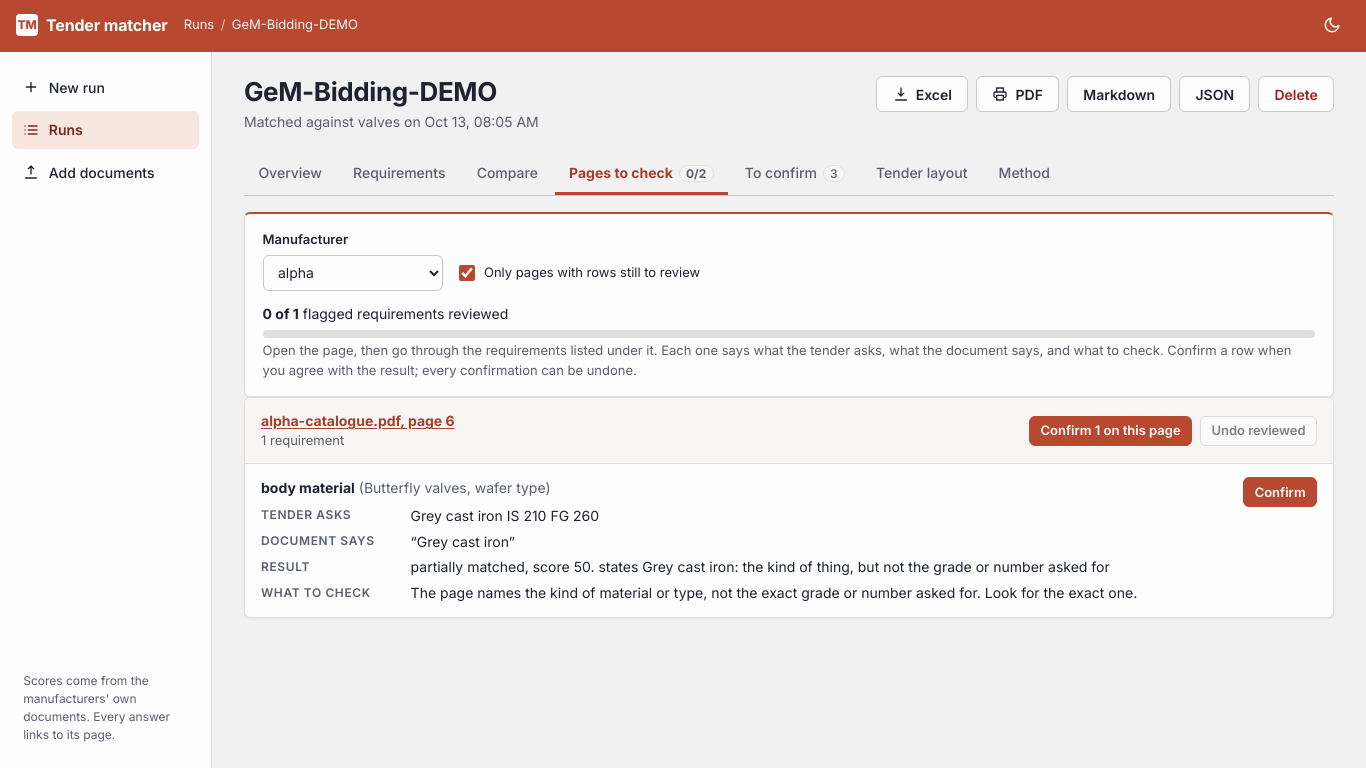
Test: the report › confirms every pending requirement on a page in one click
Click the button "Confirm 1 on this page" at [1111, 430], box top-left (1029, 416), bottom-right (1192, 446)
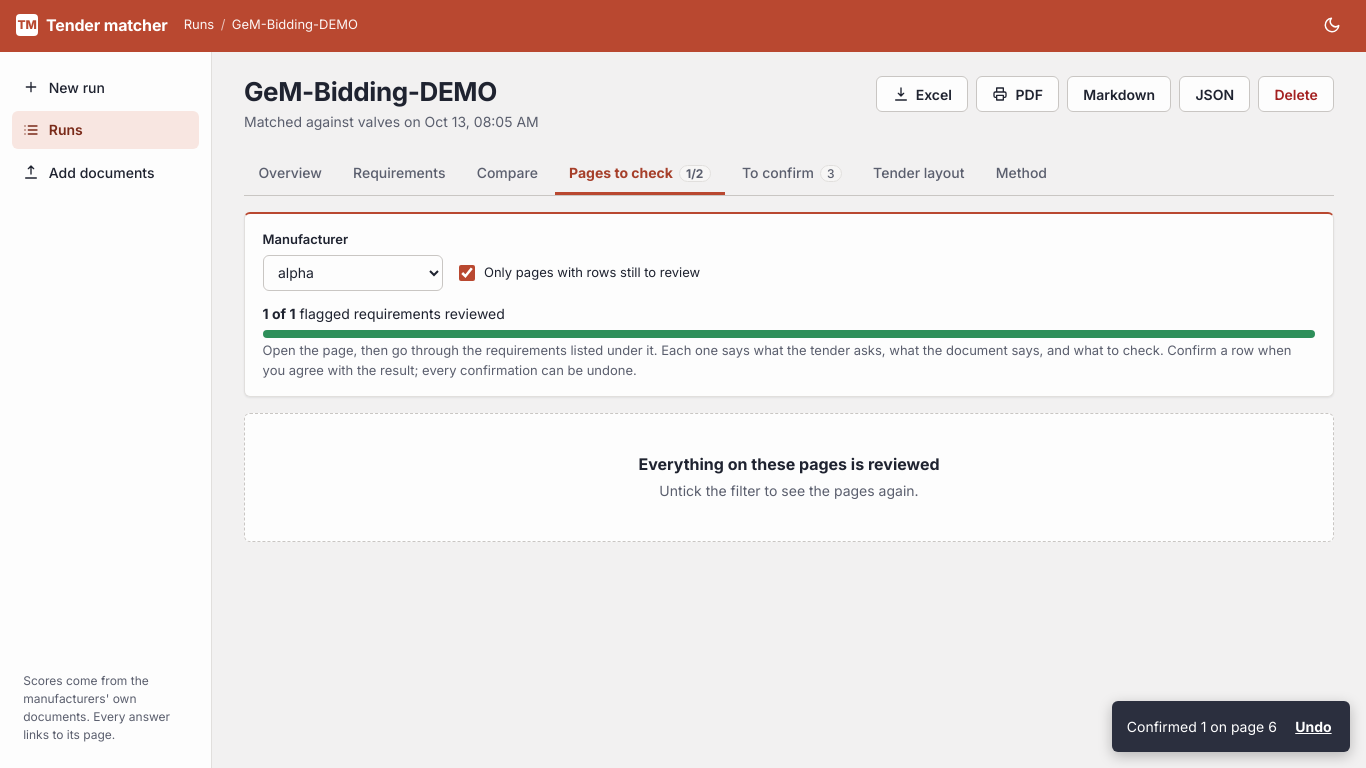
Expected: the text "1 of 1" is shown, top-left (263, 305), bottom-right (296, 322)
